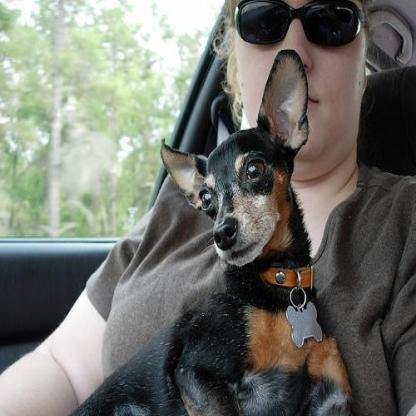miniature_pinscher: (66, 50, 354, 411)
